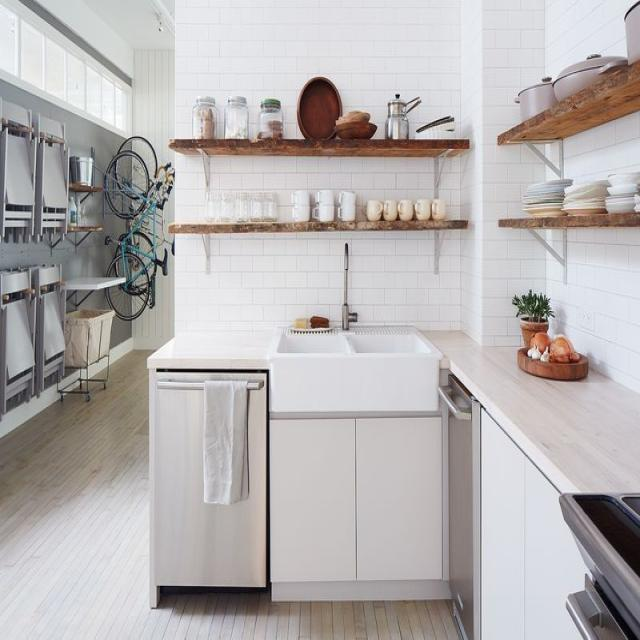dishwasher: (154, 364, 270, 593)
